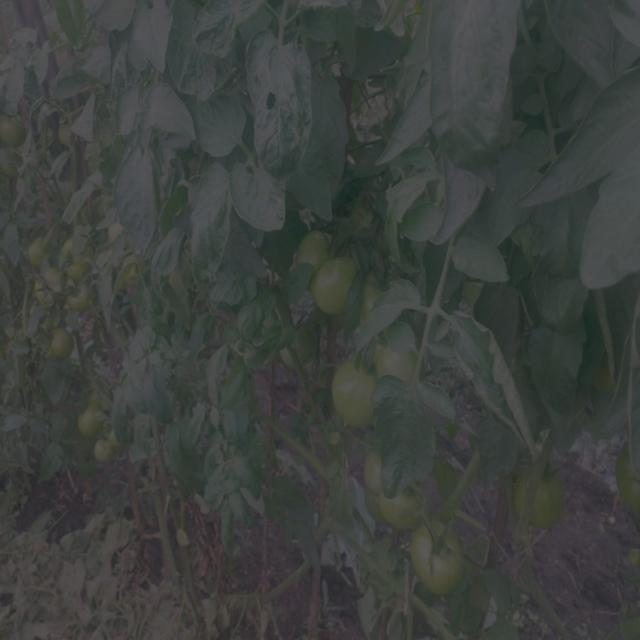tomato: (329, 362, 387, 432), (413, 521, 461, 595), (525, 463, 563, 536), (317, 258, 354, 312), (378, 492, 424, 534), (377, 338, 416, 384), (617, 447, 640, 509), (59, 241, 89, 287), (47, 326, 78, 365), (1, 109, 29, 151), (298, 234, 330, 269), (62, 285, 101, 313), (71, 401, 103, 434), (361, 452, 383, 497), (95, 437, 117, 468), (25, 234, 47, 264), (35, 280, 57, 303)
